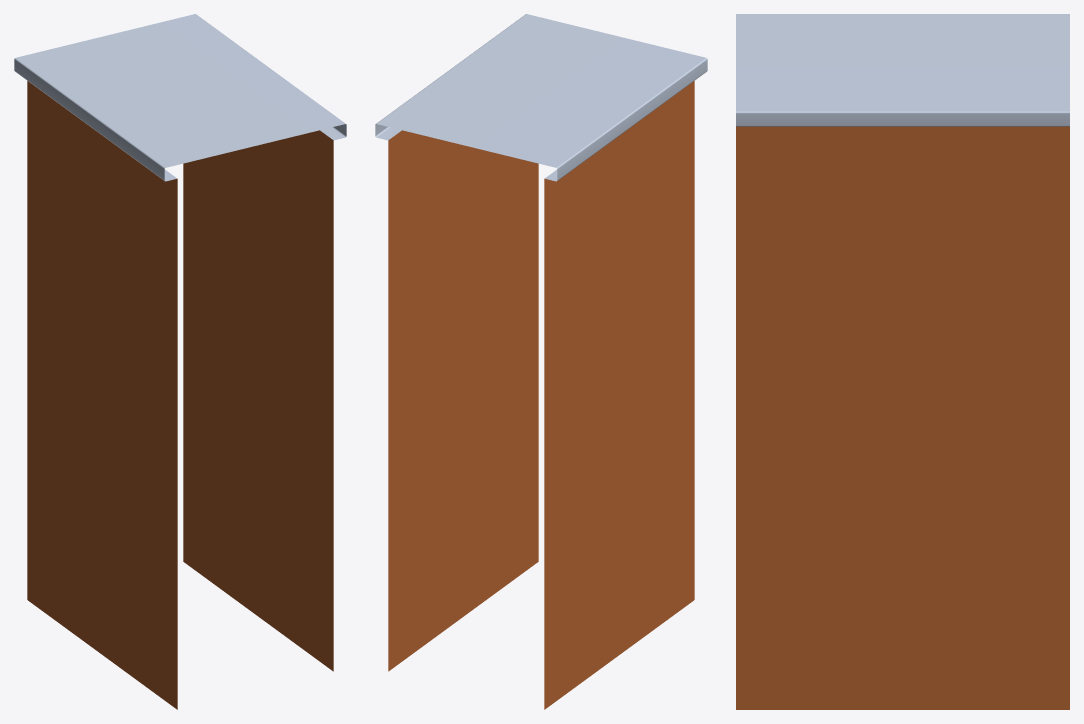
File: Table_counter_middle.fbx
3 views of the same model, side by side, from view 1: azimuth 30°, elevation 25°; view 2: azimuth 150°, elevation 25°; view 3: azimuth 270°, elevation 25° (orthographic). The views are drawn at different scales.
Visible parts, largest first — view 1: Table_counter_middle_object; view 2: Table_counter_middle_object; view 3: Table_counter_middle_object.
Boxes of the visible parts, x1,y1,x2,y2 form: Table_counter_middle_object: (14,14,346,709); Table_counter_middle_object: (375,14,707,709); Table_counter_middle_object: (736,14,1069,709).
Size of what is drawn, in the model's own units: 1400 by 4000 by 2000.
